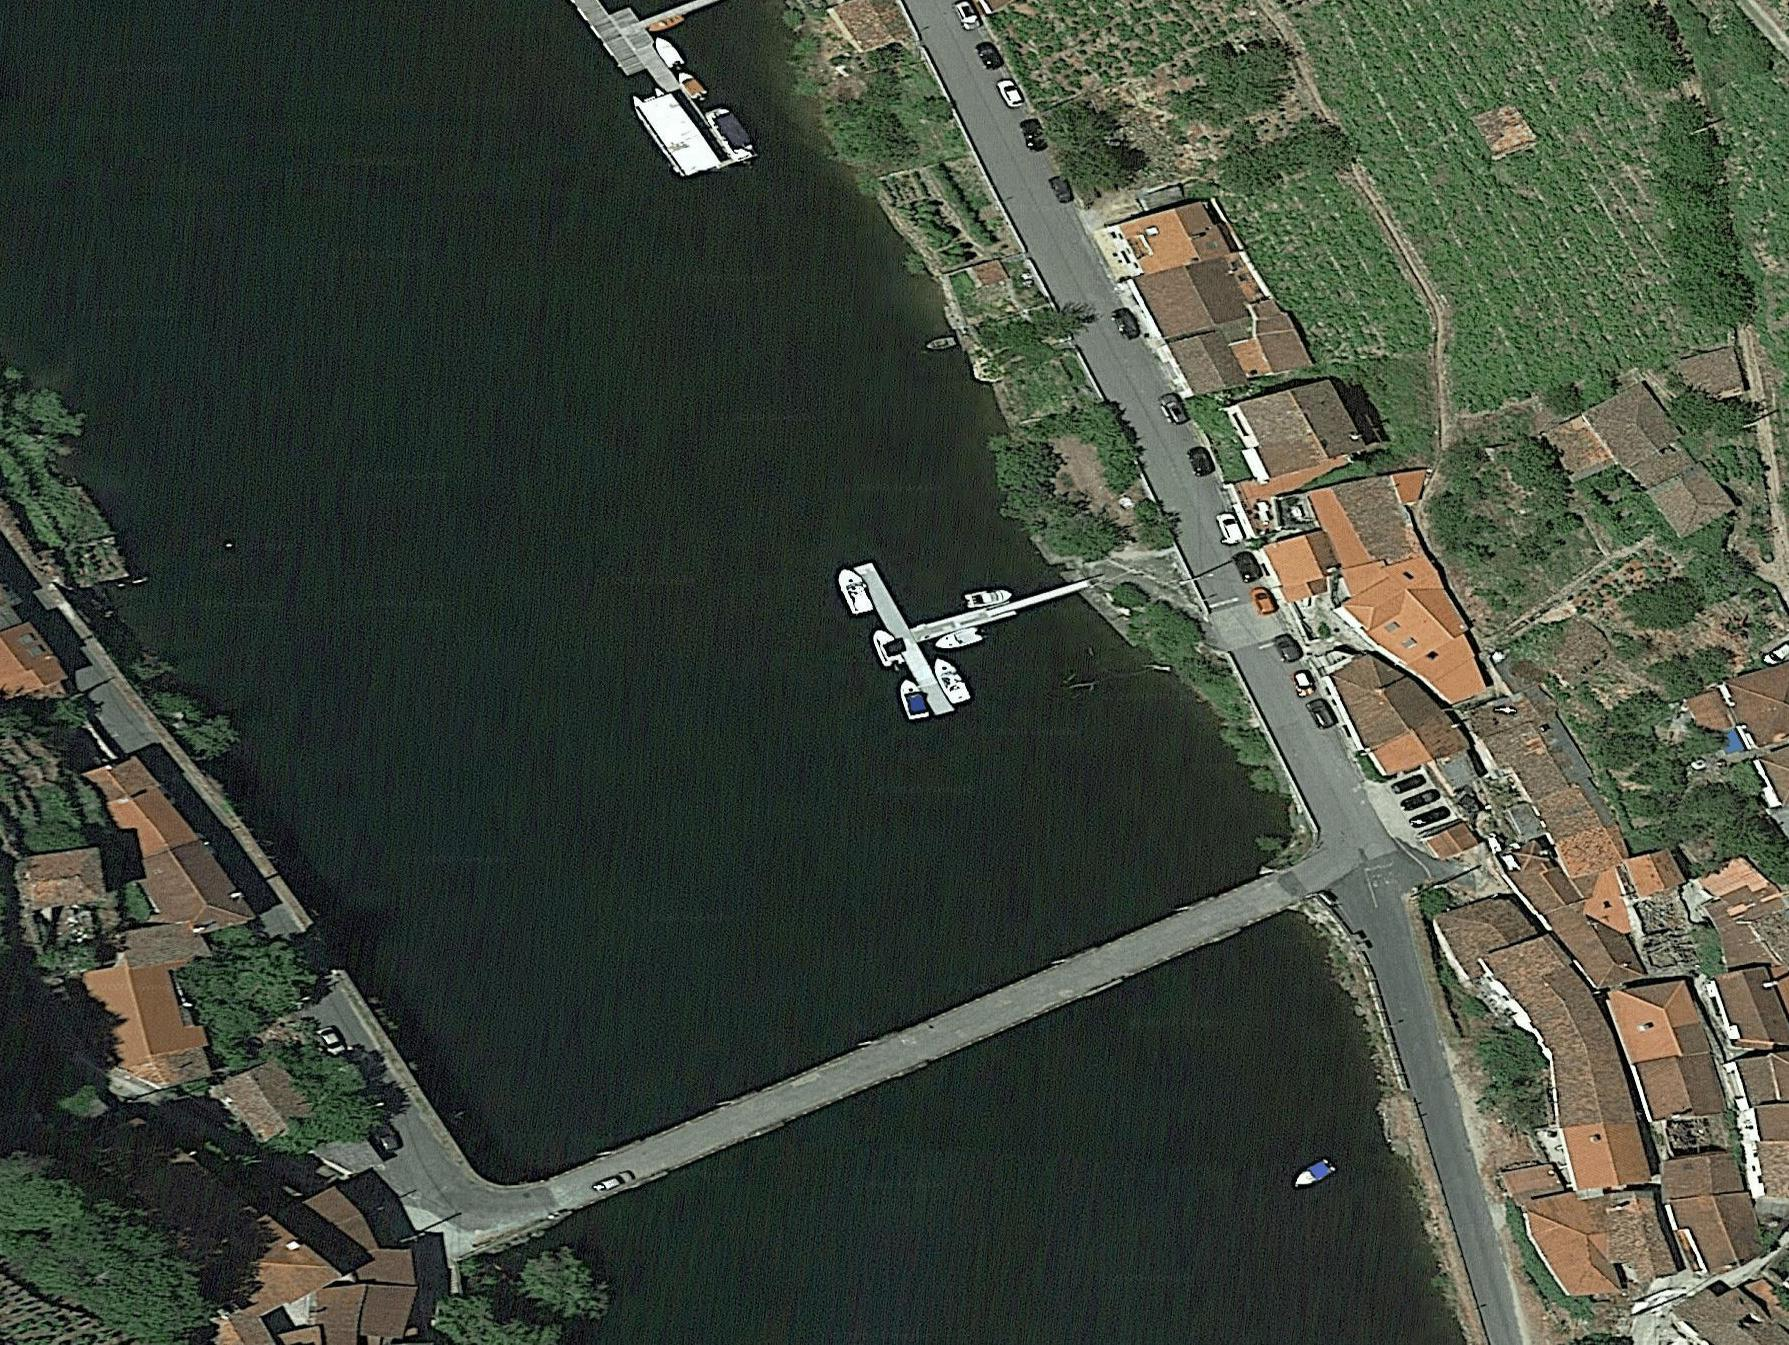bridge: (533, 824, 1316, 1276)
harbor: (521, 1, 804, 179), (827, 535, 1095, 712)
ship: (629, 78, 718, 181), (927, 656, 971, 709), (1289, 1156, 1340, 1192)
small-vehicle: (996, 75, 1030, 113), (951, 1, 988, 32)
